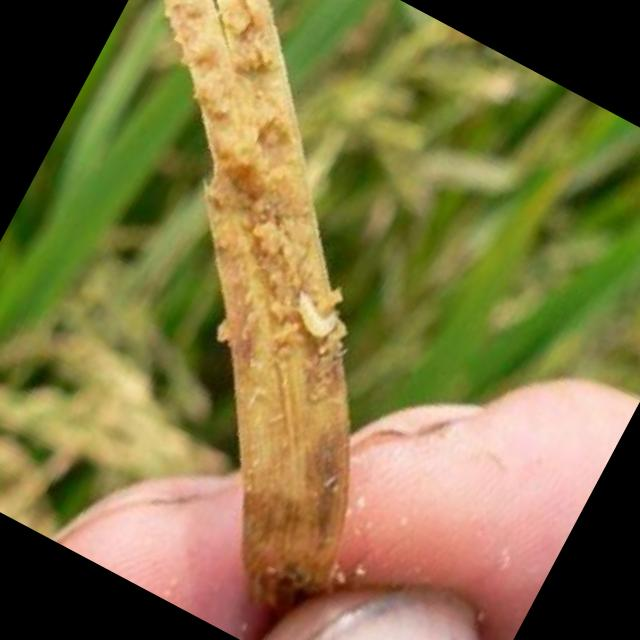whorl-maggot: (268, 279, 348, 354)
